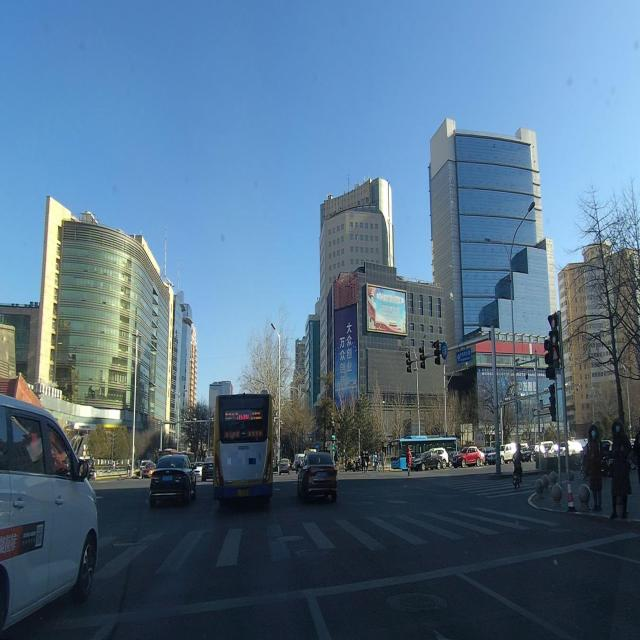Traffic Light -Off-: (548, 384, 558, 420), (404, 350, 412, 375), (418, 346, 426, 370)
Traffic Light -Red-: (547, 313, 562, 362), (432, 339, 441, 367)
